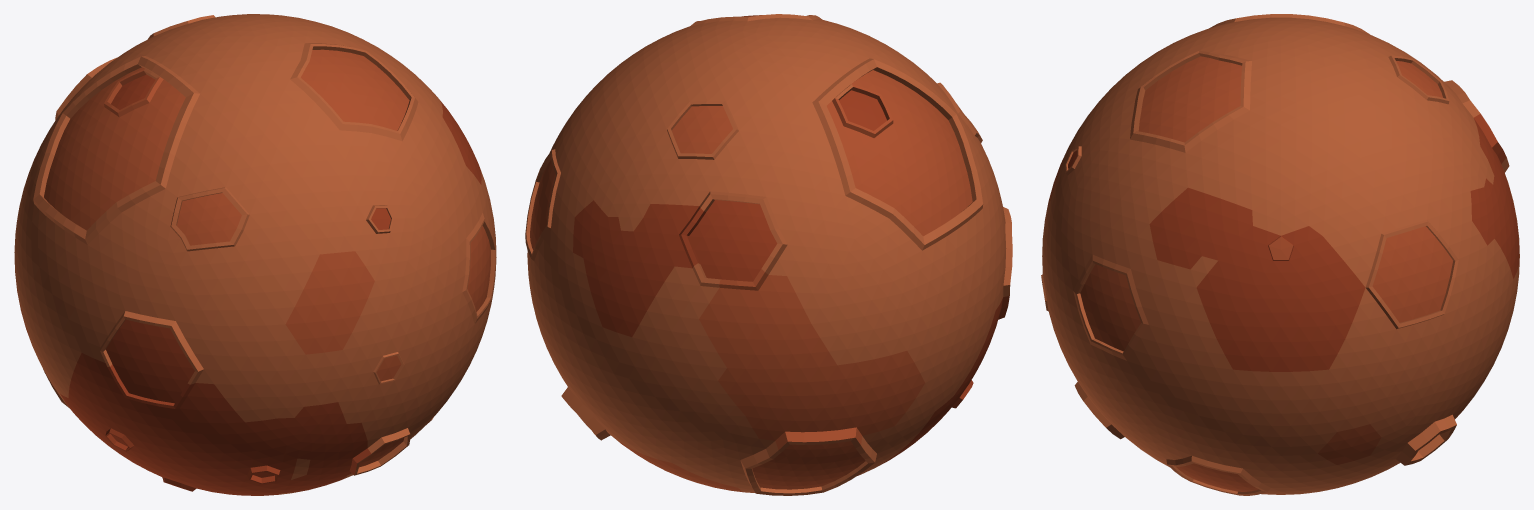
3 views of the same model, side by side, from view 1: azimuth 30°, elevation 25°; view 2: azimuth 150°, elevation 25°; view 3: azimuth 270°, elevation 25° (orthographic).
Parts seen in each view (by area): view 1: Icosphere; view 2: Icosphere; view 3: Icosphere.
Part boxes in pixels (bbox=[...]): Icosphere: bbox=[14, 14, 496, 495]; Icosphere: bbox=[525, 14, 1012, 495]; Icosphere: bbox=[1041, 14, 1519, 495].
Size of the model in its own units: 30 by 30.13 by 30.07.
